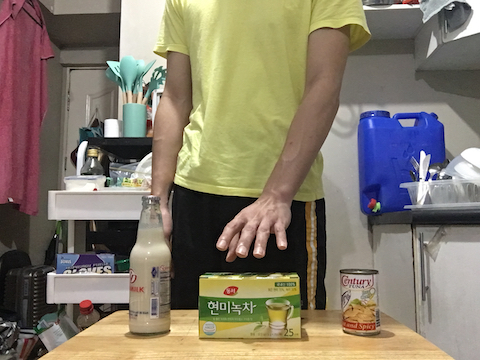bottle: (126, 193, 174, 338)
box: (196, 267, 304, 341)
can: (338, 266, 383, 341)
